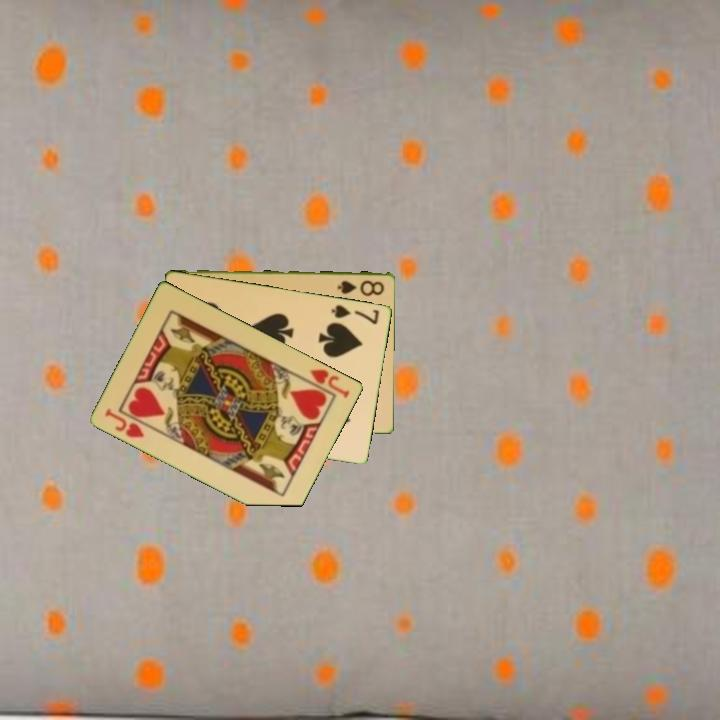7s: (328, 301, 382, 327)
8s: (335, 276, 387, 297)
Jh: (306, 365, 353, 401), (102, 405, 148, 441)
